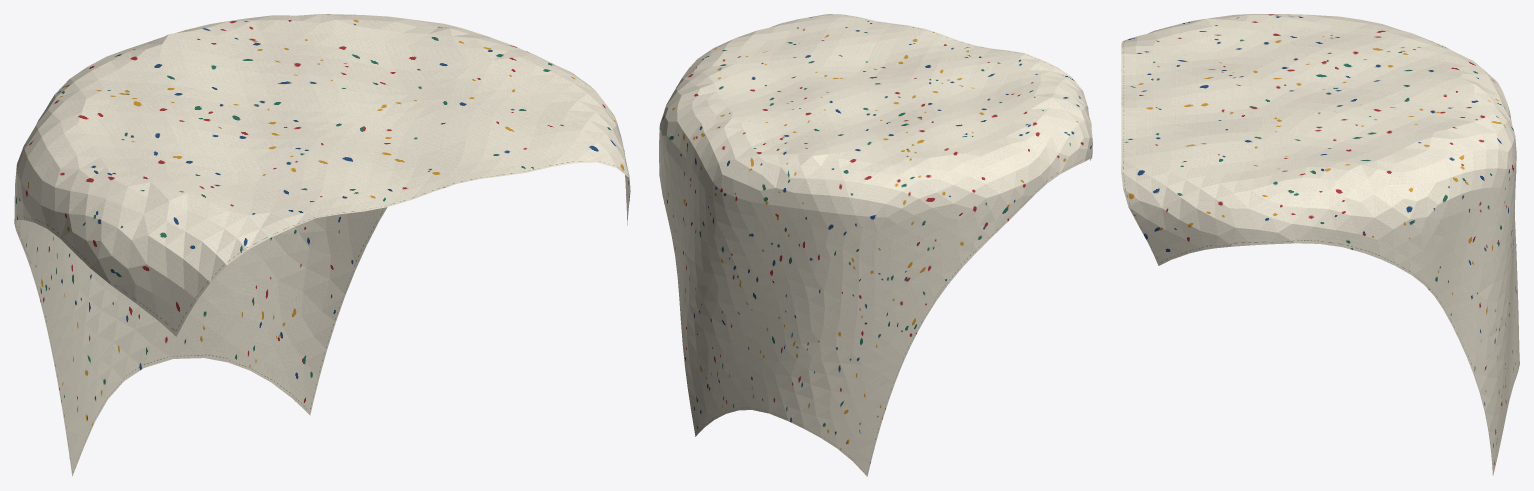
File: task-09.glb
3 renders of one model, left to right at view 1: azimuth 30°, elevation 25°; view 2: azimuth 150°, elevation 25°; view 3: azimuth 270°, elevation 25°, orthographic. The views are drawn at different scales.
Parts seen in each view (by area): view 1: towel__0; view 2: towel__0; view 3: towel__0.
Boxes of the visible parts, x1,y1,x2,y2 form: towel__0: (14, 14, 630, 476); towel__0: (659, 14, 1092, 476); towel__0: (1121, 14, 1519, 475).
Bounding box in the file's own units: 0.3697 × 0.2836 × 0.3059.
1 material, 1 textured.
